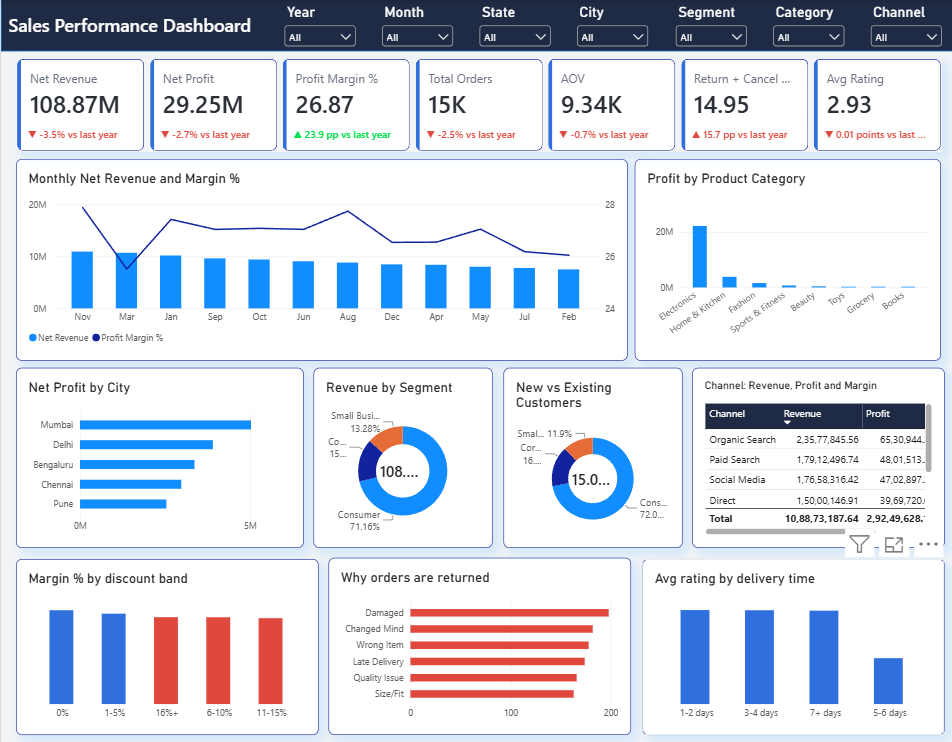

The dashboard page shown, as its layout file describes it:
{"tool":"powerbi","page":{"name":"Page 1","canvas":[1280,1000],"ordinal":0},"visuals":[{"type":"shape","box":[0,0,1280,70],"z":0},{"type":"slicer","fields":{"Values":["sales sales_data (2).order_year"]},"box":[375.3,6,105,60.3],"z":0,"group":"g1"},{"type":"slicer","fields":{"Values":["sales sales_data (2).acquisition_channel"]},"box":[1160.7,6.2,105,60],"z":1000,"group":"g1"},{"type":"textbox","box":[10.9,18.1,447.6,38.6],"z":1000},{"type":"slicer","fields":{"Values":["sales sales_data (2).customer_segment"]},"box":[899,6.2,105,60],"z":2000,"group":"g1"},{"type":"lineClusteredColumnComboChart","title":"Monthly Net Revenue and Margin %","fields":{"Category":["sales_data.shortdate"],"Y":["sales_data.Net Revenue"],"Y2":["sales_data.Profit Margin %"]},"box":[20.1,214.8,820,270],"z":2000},{"type":"slicer","fields":{"Values":["sales sales_data (2).city"]},"box":[768.1,6.2,105,60],"z":3000,"group":"g1"},{"type":"clusteredColumnChart","title":"Profit by Product Category","fields":{"Y":["sales_data.Net Profit"],"Category":["sales_data.product_category"]},"box":[850.1,214.8,410,270],"z":3000},{"type":"slicer","fields":{"Values":["sales sales_data (2).state"]},"box":[637.2,6.2,105,60],"z":4000,"group":"g1"},{"type":"clusteredBarChart","title":"Net Profit by City","fields":{"Category":["sales_data.city"],"Y":["sales_data.Net Profit"]},"box":[20.1,494.3,385.4,241.3],"z":4000},{"type":"slicer","fields":{"Values":["sales sales_data (2).MonthName"]},"box":[506.3,6.2,105,60],"z":5000,"group":"g1"},{"type":"donutChart","title":"Revenue by Segment","fields":{"Category":["sales_data.customer_segment"],"Y":["sales_data.Net Revenue"]},"box":[418.9,494.3,239.6,241.3],"z":5000},{"type":"slicer","fields":{"Values":["sales sales_data (2).customer_type"]},"box":[1029.9,6.2,105,60],"z":6000,"group":"g1"},{"type":"donutChart","title":"New vs Existing Customers","fields":{"Category":["sales_data.customer_segment"],"Y":["CountNonNull(sales_data.customer_type)"]},"box":[673.6,494.3,239.6,241.3],"z":6000},{"type":"tableEx","title":"Channel: Revenue, Profit and Margin","fields":{"Values":["sales_data.acquisition_channel","sales_data.Net Revenue","sales_data.Net Profit","sales_data.Profit Margin %"]},"box":[926.6,494.3,338.5,241.3],"z":7000},{"type":"clusteredColumnChart","title":"Margin % by discount band","fields":{"Y":["sales_data.Profit Margin %"],"Category":["sales_data.data band"]},"box":[20.1,750.7,405.5,236.3],"z":8000},{"type":"clusteredBarChart","title":"Why orders are returned","fields":{"Y":["sales_data.Total Orders"],"Category":["sales_data.return_reason"]},"box":[439,749,405.5,237.9],"z":9000},{"type":"clusteredColumnChart","title":"Avg rating by delivery time","fields":{"Y":["sales_data.Avg Rating"],"Category":["sales_data.deliver band"]},"box":[859.6,750.7,405.5,236.3],"z":10000},{"type":"cardVisual","fields":{"Data":["sales_data.Net Revenue","sales_data.Net Profit","sales_data.Profit Margin %","sales_data.Total Orders","sales_data.AOV","sales_data.Return Rate %","sales_data.Avg Rating"]},"box":[21.8,80.4,1240,124],"z":11000},{"type":"cardVisual","fields":{"Data":["Calendar.Revenue YoY Indicator","Calendar.Profit YoY Indicator","Calendar.Margin YoY Indicator","Calendar.Orders YoY Indicator","Calendar.AOV YoY Indicator","Calendar.Return Cancel YoY Indicator","Calendar.Rating YoY Indicator"]},"box":[20.1,162.5,1240,36.9],"z":12000},{"type":"group","id":"g1","title":"Group 1","box":[375.3,6,891.4,60.3],"z":13000}]}

Visuals, with their boxes in screenshot pixels (x1, y1, x2, y2), scaled from the page's 1280x1000 canvas onto the 952x742 screenshot:
shape: box=[0, 0, 951, 52]
slicer - sales sales_data (2).order_year: box=[279, 4, 357, 49]
slicer - sales sales_data (2).acquisition_channel: box=[863, 5, 941, 49]
textbox: box=[8, 13, 341, 42]
slicer - sales sales_data (2).customer_segment: box=[669, 5, 747, 49]
"Monthly Net Revenue and Margin %" lineClusteredColumnComboChart: box=[15, 159, 625, 360]
slicer - sales sales_data (2).city: box=[571, 5, 649, 49]
"Profit by Product Category" clusteredColumnChart: box=[632, 159, 937, 360]
slicer - sales sales_data (2).state: box=[474, 5, 552, 49]
"Net Profit by City" clusteredBarChart: box=[15, 367, 302, 546]
slicer - sales sales_data (2).MonthName: box=[377, 5, 455, 49]
"Revenue by Segment" donutChart: box=[312, 367, 490, 546]
slicer - sales sales_data (2).customer_type: box=[766, 5, 844, 49]
"New vs Existing Customers" donutChart: box=[501, 367, 679, 546]
"Channel: Revenue, Profit and Margin" tableEx: box=[689, 367, 941, 546]
"Margin % by discount band" clusteredColumnChart: box=[15, 557, 317, 732]
"Why orders are returned" clusteredBarChart: box=[327, 556, 628, 732]
"Avg rating by delivery time" clusteredColumnChart: box=[639, 557, 941, 732]
cardVisual - sales_data.Net Revenue x sales_data.Net Profit: box=[16, 60, 938, 152]
cardVisual - Calendar.Revenue YoY Indicator x Calendar.Profit YoY Indicator: box=[15, 121, 937, 148]
"Group 1" group: box=[279, 4, 942, 49]
